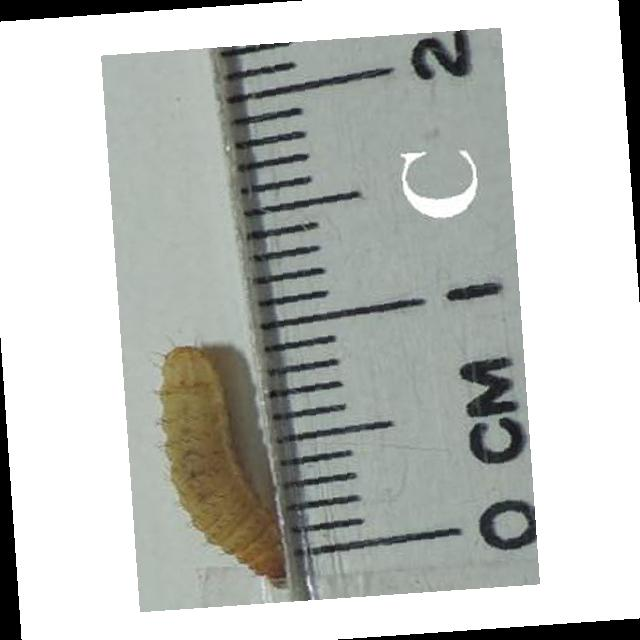Maggot: (155, 345, 293, 587)
